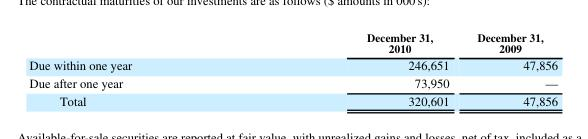table: (28, 28, 557, 108)
table column: (28, 28, 248, 108), (248, 28, 462, 108), (462, 28, 557, 108)
table column header: (28, 28, 557, 55)
table row: (28, 28, 557, 55), (28, 55, 557, 73), (28, 73, 557, 91), (28, 91, 557, 108)
